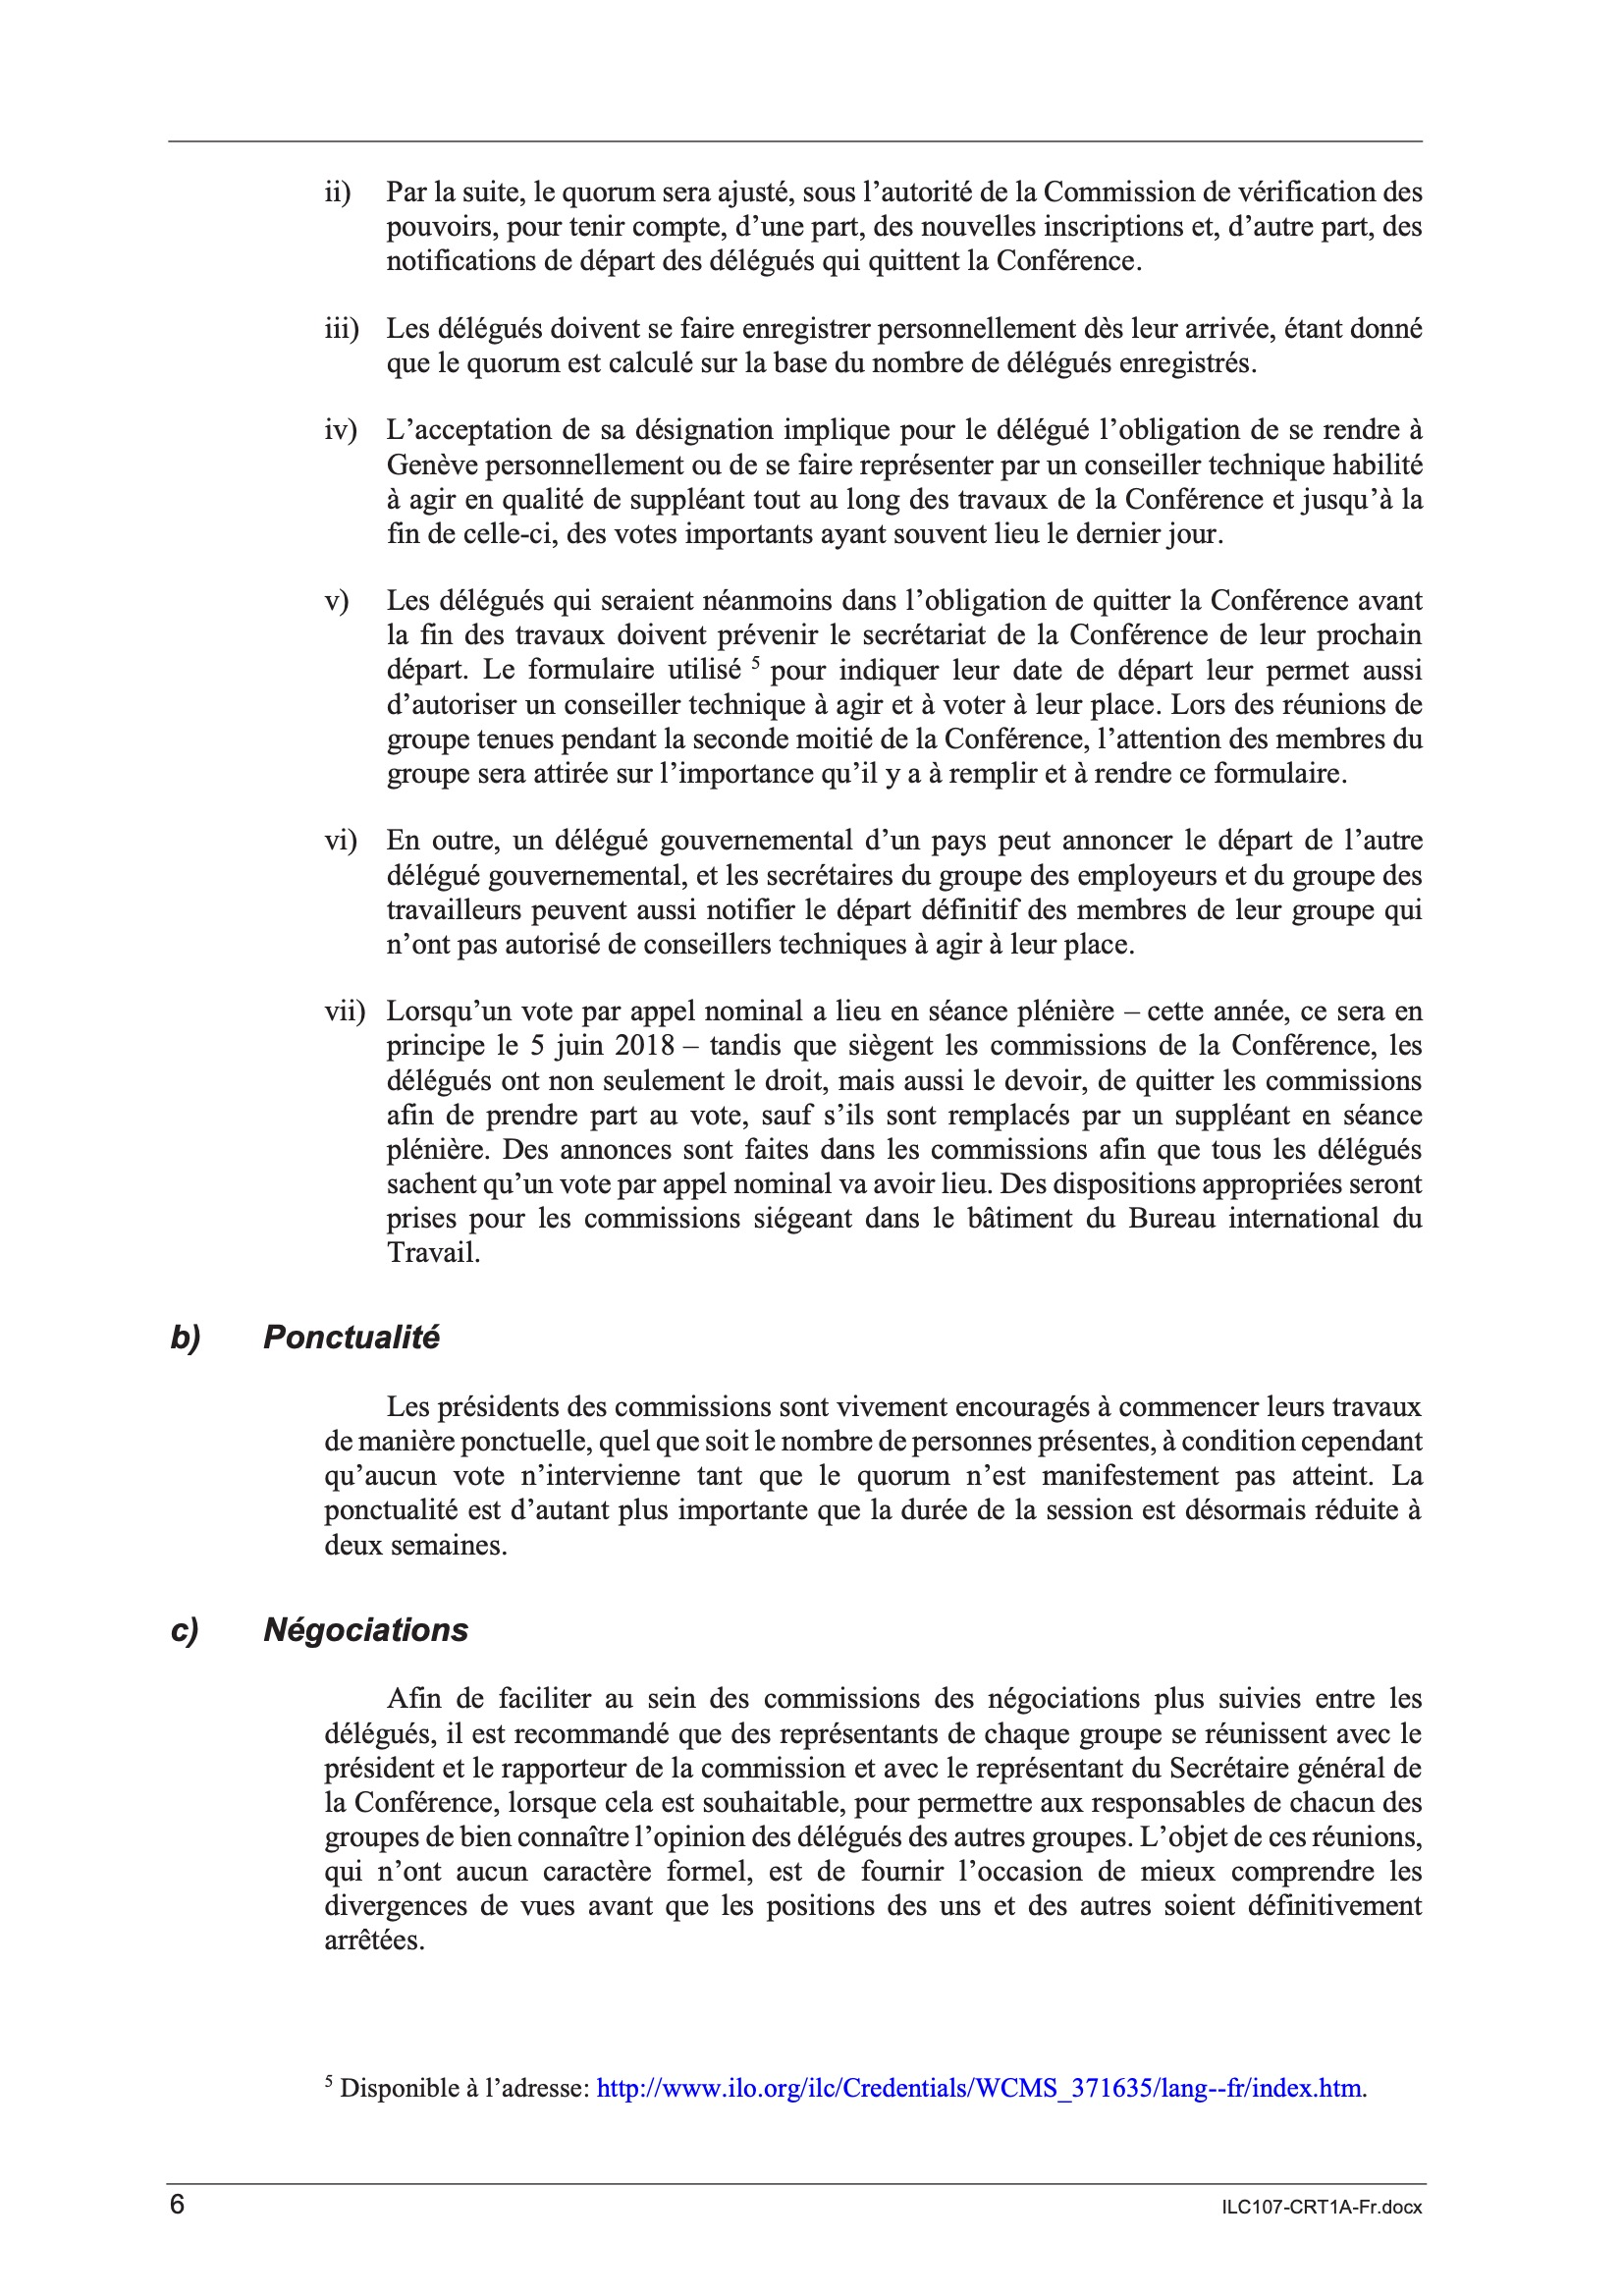MainZone-Head: (160, 1607, 482, 1655), (163, 1315, 456, 1366)
MainZone-ListItem: (305, 984, 1434, 1277), (305, 576, 1432, 794), (302, 400, 1433, 558), (308, 813, 1431, 967), (298, 165, 1433, 289), (300, 304, 1435, 389)
MainZone-P: (298, 1670, 1431, 1964), (300, 1383, 1434, 1574)
MarginTextZone-Notes: (310, 2060, 1380, 2115)
NumberingZone: (1211, 2186, 1429, 2229), (160, 2187, 191, 2226)
